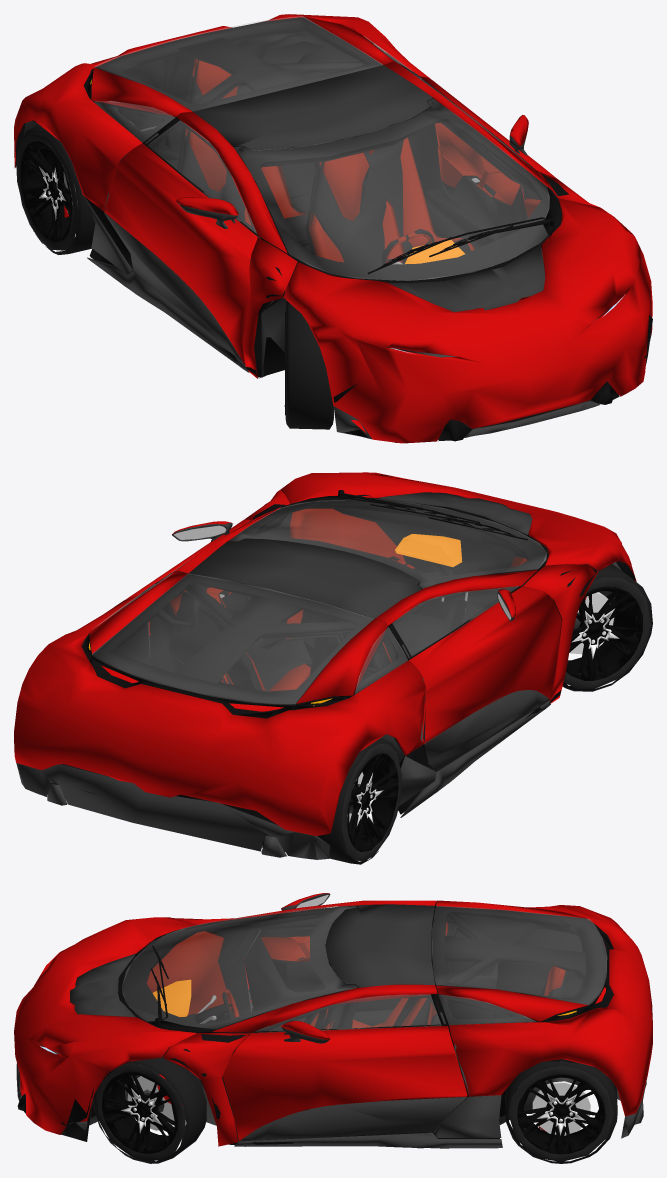
Rendered from concept-rival.glb.
3 views of the same model, one above another, from view 1: azimuth 30°, elevation 25°; view 2: azimuth 150°, elevation 25°; view 3: azimuth 270°, elevation 25° (orthographic). The views are drawn at different scales.
Parts seen in each view (by area): view 1: BodyHood, BodyWindshield, BodyRearwindow, BodyDoorRColor1, BodyRearPanelsColor1, BodyRoofPanel, BodyWindshieldGasket, InteriorSeatsColor1, InteriorSeatsColor2, BodyPillars, InteriorPillar, InteriorRearHatch (+23 smaller); view 2: BodyRearPanelsColor1, BodyRearwindow, BodyWindshield, BodyDoorRColor1, BodyPanelsColor2, BodyRoofPanel, BodyHood, InteriorRearHatch, InteriorPillar, BodyPillars, BodyWindshieldGasket, InteriorDashMid (+21 smaller); view 3: BodyRearPanelsColor1, BodyWindshield, BodyDoorLColor1, BodyHood, BodyRearwindow, BodyRoofPanel, BodyPillars, BodyWindshieldGasket, BodyDoorLColor2, BodyPanelsColor2, InteriorMid, InteriorRearHatch (+27 smaller).
Part boxes in pixels (x1,y1,x2,y2): BodyHood: (283,199,652,443); BodyWindshield: (234,99,549,280); BodyRearwindow: (94,16,382,111); BodyDoorRColor1: (104,143,257,363); BodyRearPanelsColor1: (14,14,430,211); BodyRoofPanel: (193,65,432,150); BodyWindshieldGasket: (234,99,561,282); InteriorSeatsColor1: (185,58,474,262); InteriorSeatsColor2: (180,78,471,264); BodyPillars: (176,61,603,378); InteriorPillar: (159,37,431,169); InteriorRearHatch: (96,17,383,117); BodyRearPanelsColor1: (14,571,425,835); BodyRearwindow: (92,574,373,704); BodyWindshield: (230,499,546,588); BodyDoorRColor1: (409,586,561,743); BodyPanelsColor2: (16,701,550,859); BodyRoofPanel: (189,538,421,618); BodyHood: (277,472,636,581); InteriorRearHatch: (93,574,372,710); InteriorPillar: (173,575,417,799); BodyPillars: (172,490,598,703); BodyWindshieldGasket: (230,498,548,588); InteriorDashMid: (333,505,524,623); BodyRearPanelsColor1: (436,900,652,1116); BodyWindshield: (122,905,357,1028); BodyDoorLColor1: (222,1025,467,1140); BodyHood: (14,917,196,1134); BodyRearwindow: (432,906,606,1004); BodyRoofPanel: (325,904,434,987); BodyPillars: (163,900,437,1146); BodyWindshieldGasket: (118,905,357,1032); BodyDoorLColor2: (240,1097,466,1141); BodyPanelsColor2: (16,1063,646,1148); InteriorMid: (170,919,499,1144); InteriorRearHatch: (432,906,606,1021).
Size of the model in its own units: 2.54 by 1.15 by 4.35.
